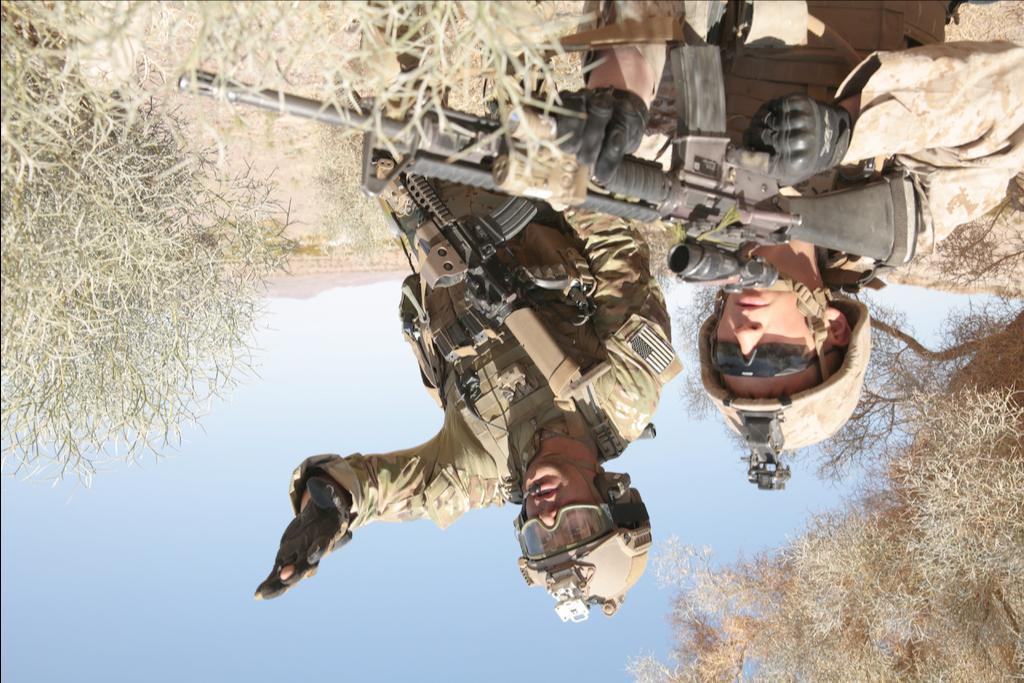gun: (176, 46, 924, 292)
